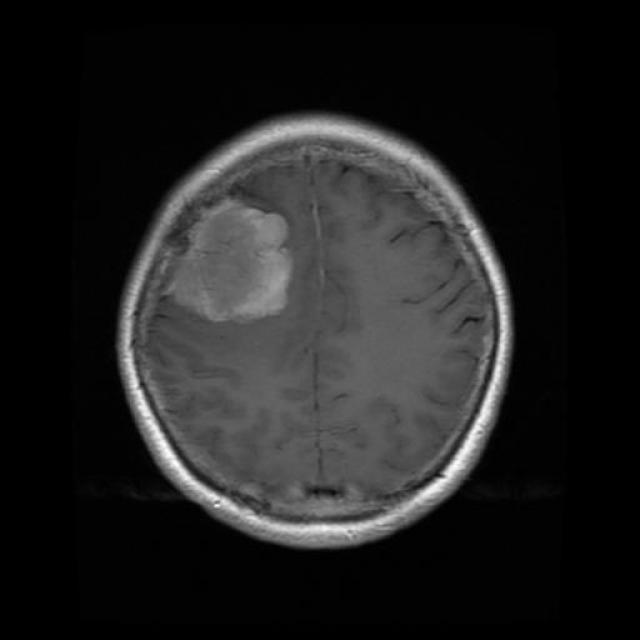meningioma: (170, 205, 292, 325)
